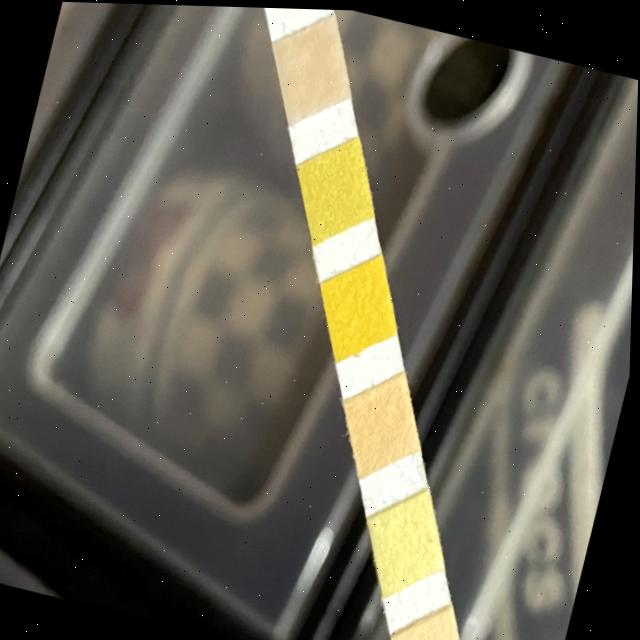Blood: (329, 274, 389, 338)
Ketone: (280, 38, 342, 99)
Protein: (378, 509, 437, 572)
SpGravity: (305, 154, 366, 223)
Urobilinogen: (403, 626, 462, 640)
pH: (353, 391, 413, 455)
